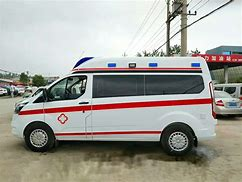specialcar: (9, 37, 216, 159)
